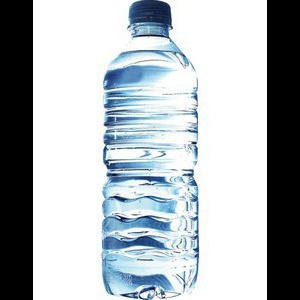emptybottle: (103, 1, 200, 300)
